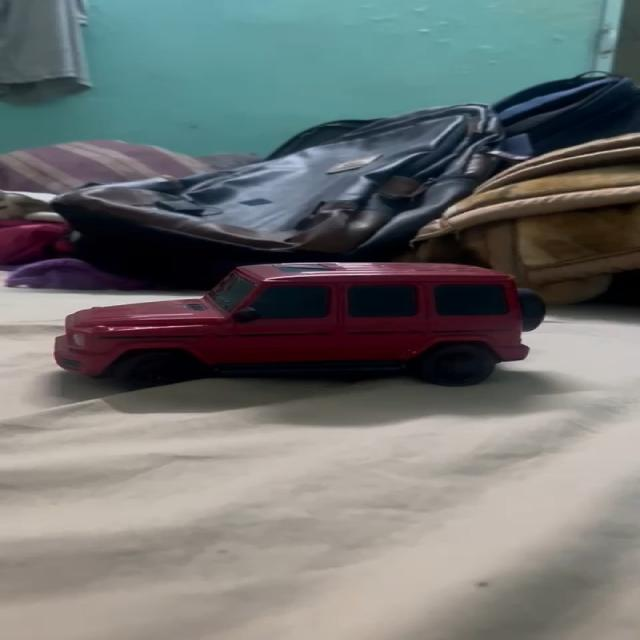light_vehicle: (37, 258, 553, 386)
